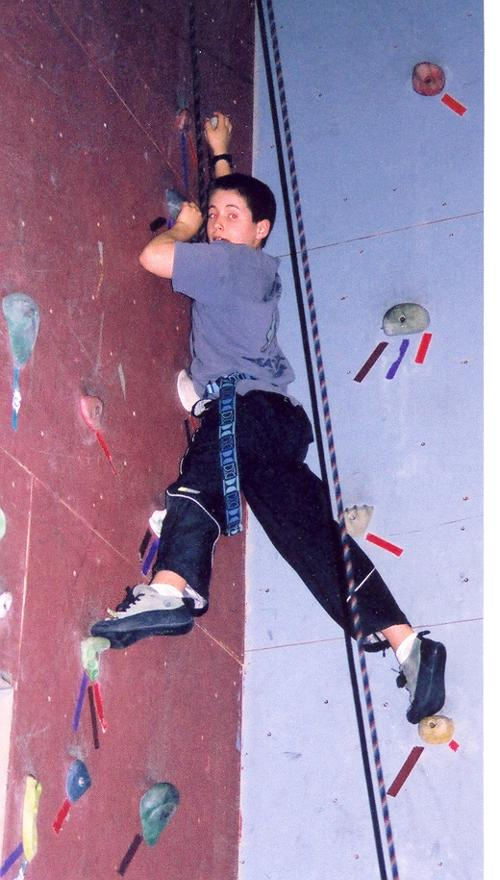person: (88, 110, 447, 725)
